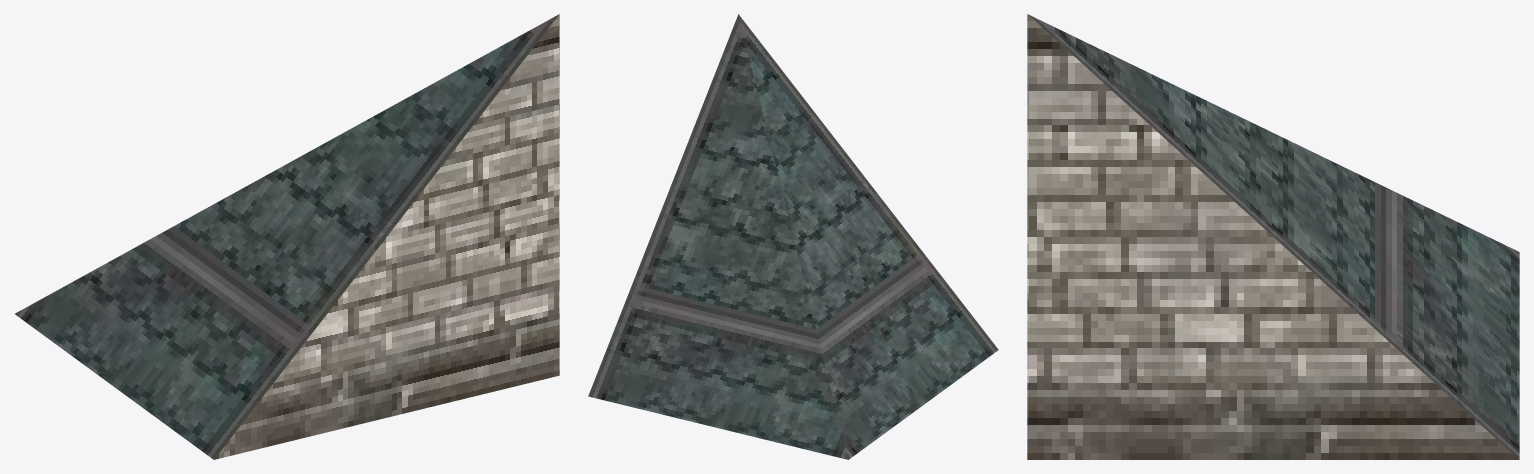
Rendered from kenney-retro-fantasy-roof-high-side-corner.glb.
The picture shows the model from 3 angles, left to right: view 1: azimuth 30°, elevation 25°; view 2: azimuth 150°, elevation 25°; view 3: azimuth 270°, elevation 25°; orthographic projection. The views are drawn at different scales.
Parts seen in each view (by area): view 1: roof-high-side-corner; view 2: roof-high-side-corner; view 3: roof-high-side-corner.
Part boxes in pixels (x1,y1,x2,y2): roof-high-side-corner: [15, 14, 559, 459]; roof-high-side-corner: [588, 14, 998, 459]; roof-high-side-corner: [1027, 14, 1519, 459].
Size of the model in its own units: 1 by 1 by 1.
Materials: 3 (3 with a texture image).
